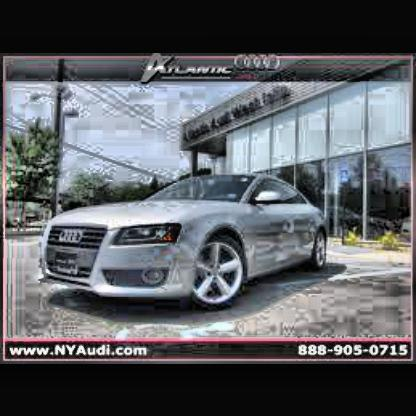Audi A5 Coupe 2012: (43, 175, 330, 308)
